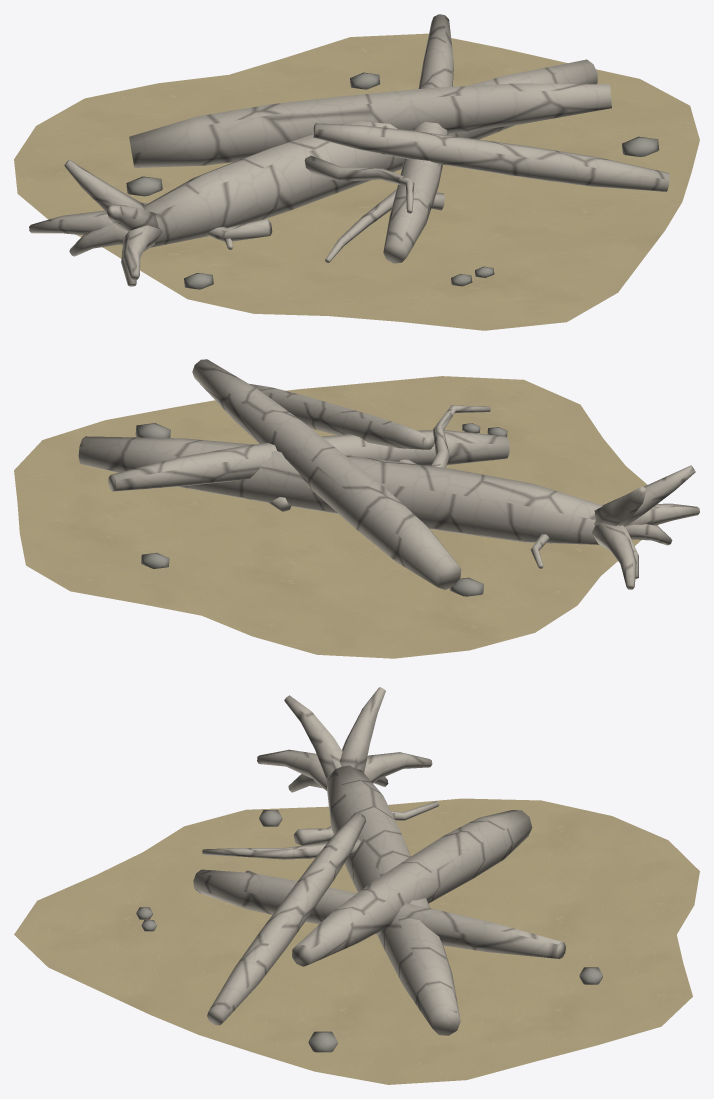
Rendered from driftwood_pile.glb.
The picture shows the model from 3 angles, top to bottom: view 1: azimuth 30°, elevation 25°; view 2: azimuth 150°, elevation 25°; view 3: azimuth 270°, elevation 25°; orthographic projection. The views are drawn at different scales.
Visible parts, largest first — view 1: driftwood_pile; view 2: driftwood_pile; view 3: driftwood_pile.
Part boxes in pixels (x1,y1,x2,y2): driftwood_pile: (14, 14, 699, 330); driftwood_pile: (14, 359, 699, 658); driftwood_pile: (14, 687, 699, 1084).
Size of the model in its own units: 5.04 by 0.8087 by 4.76.
3 materials, 3 textured.
